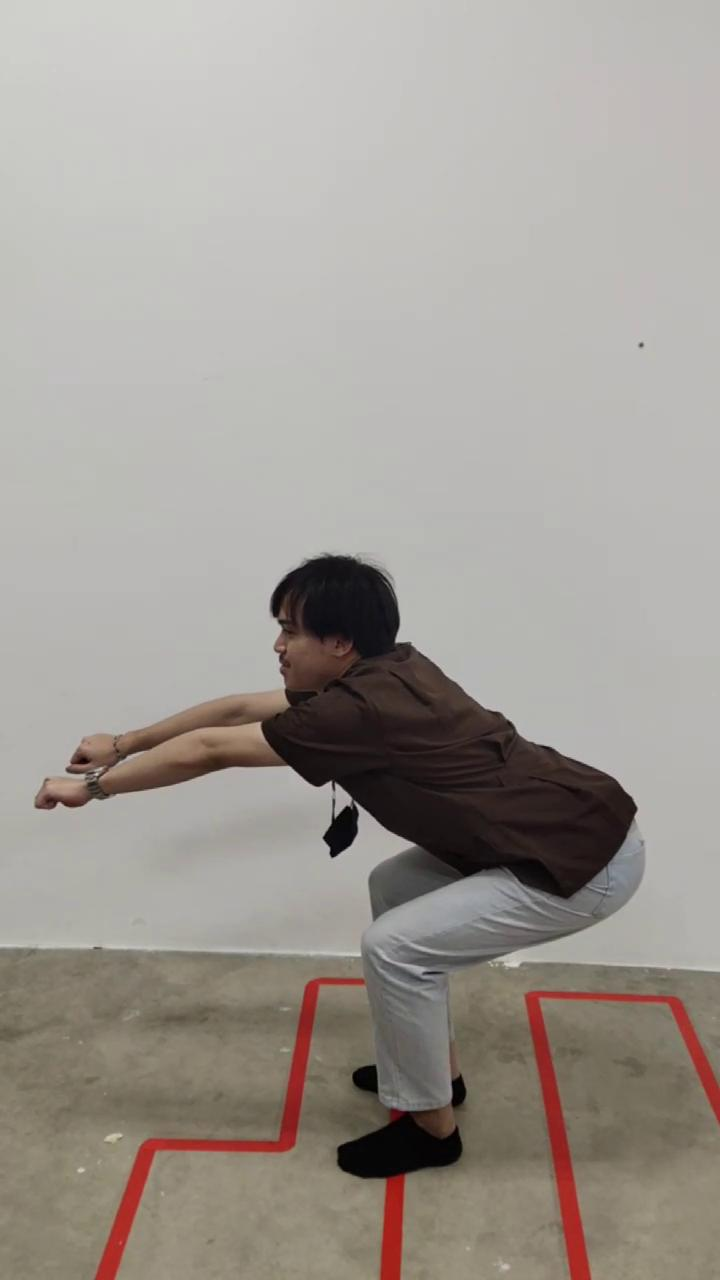squat down: (35, 555, 645, 1178)
